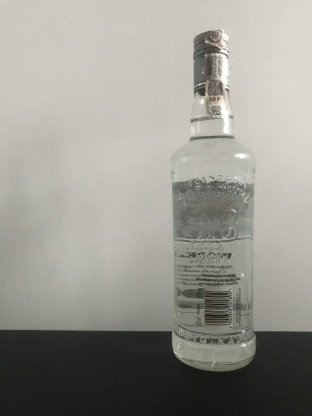nakretka: (191, 26, 231, 98)
